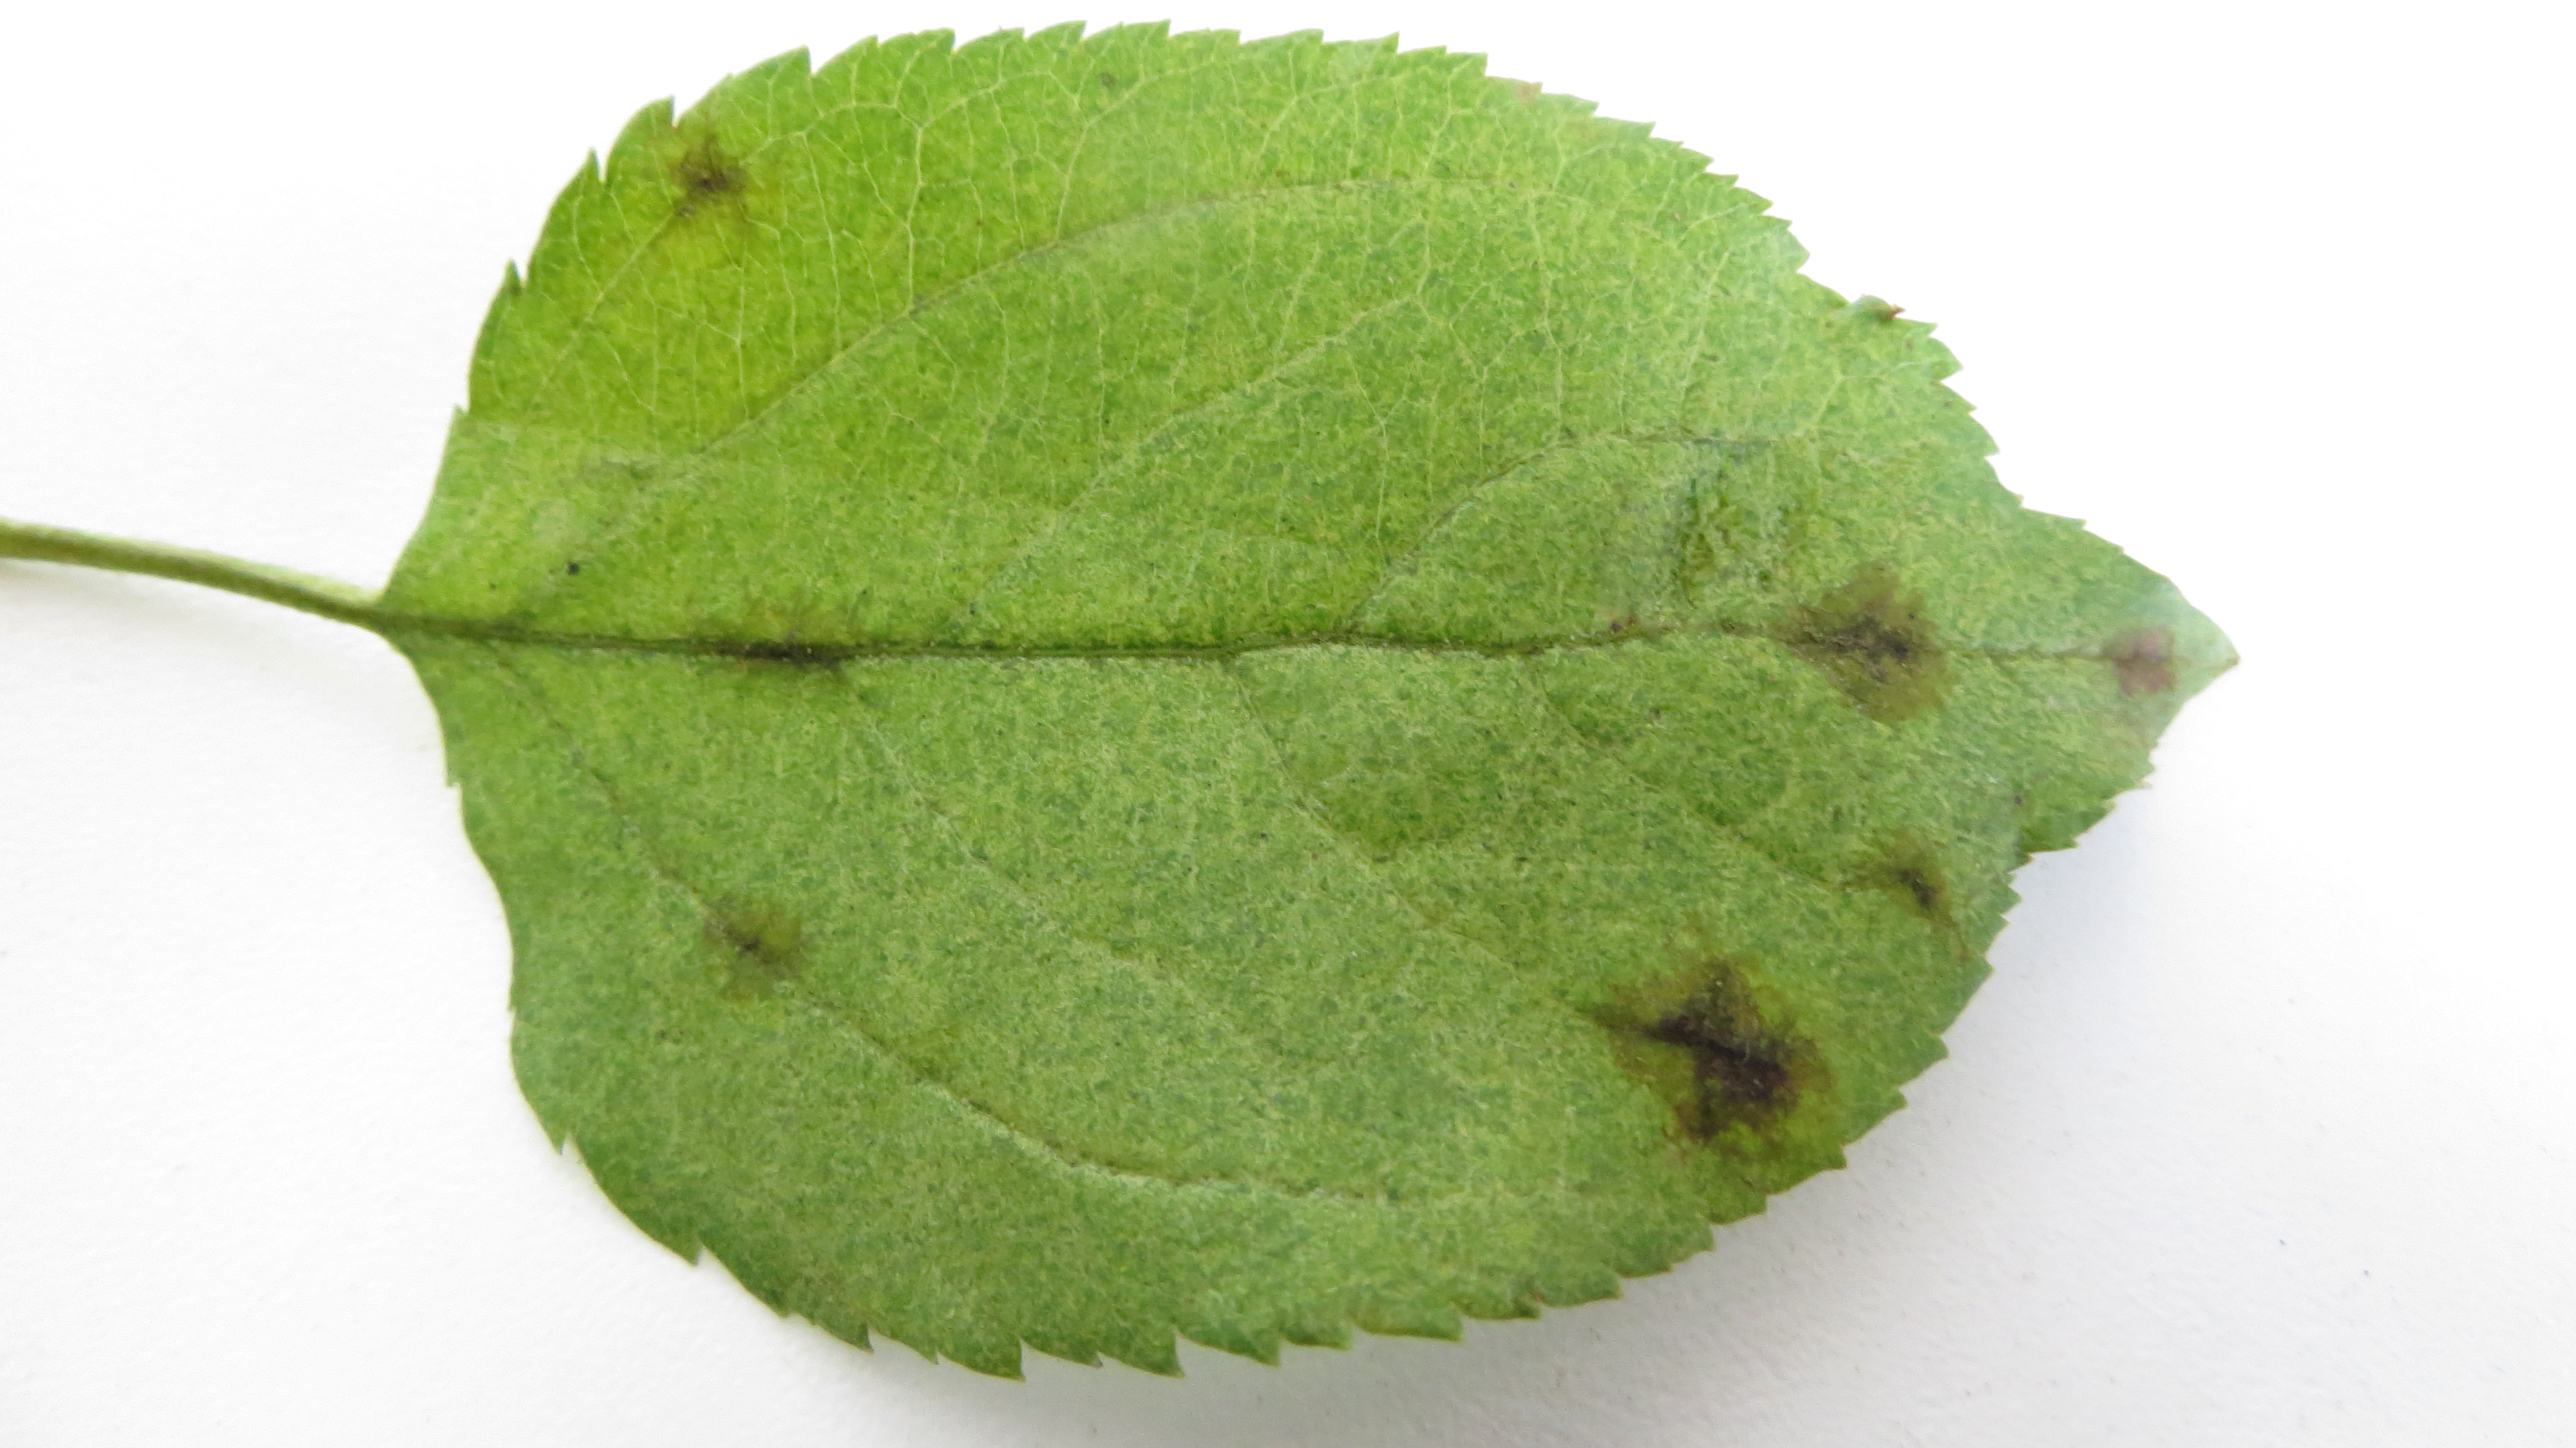sarna: (1585, 958, 1819, 1175), (1785, 568, 1951, 728), (1835, 830, 1989, 961), (709, 589, 878, 703), (683, 889, 821, 1014), (2086, 605, 2187, 717), (653, 120, 754, 225)
